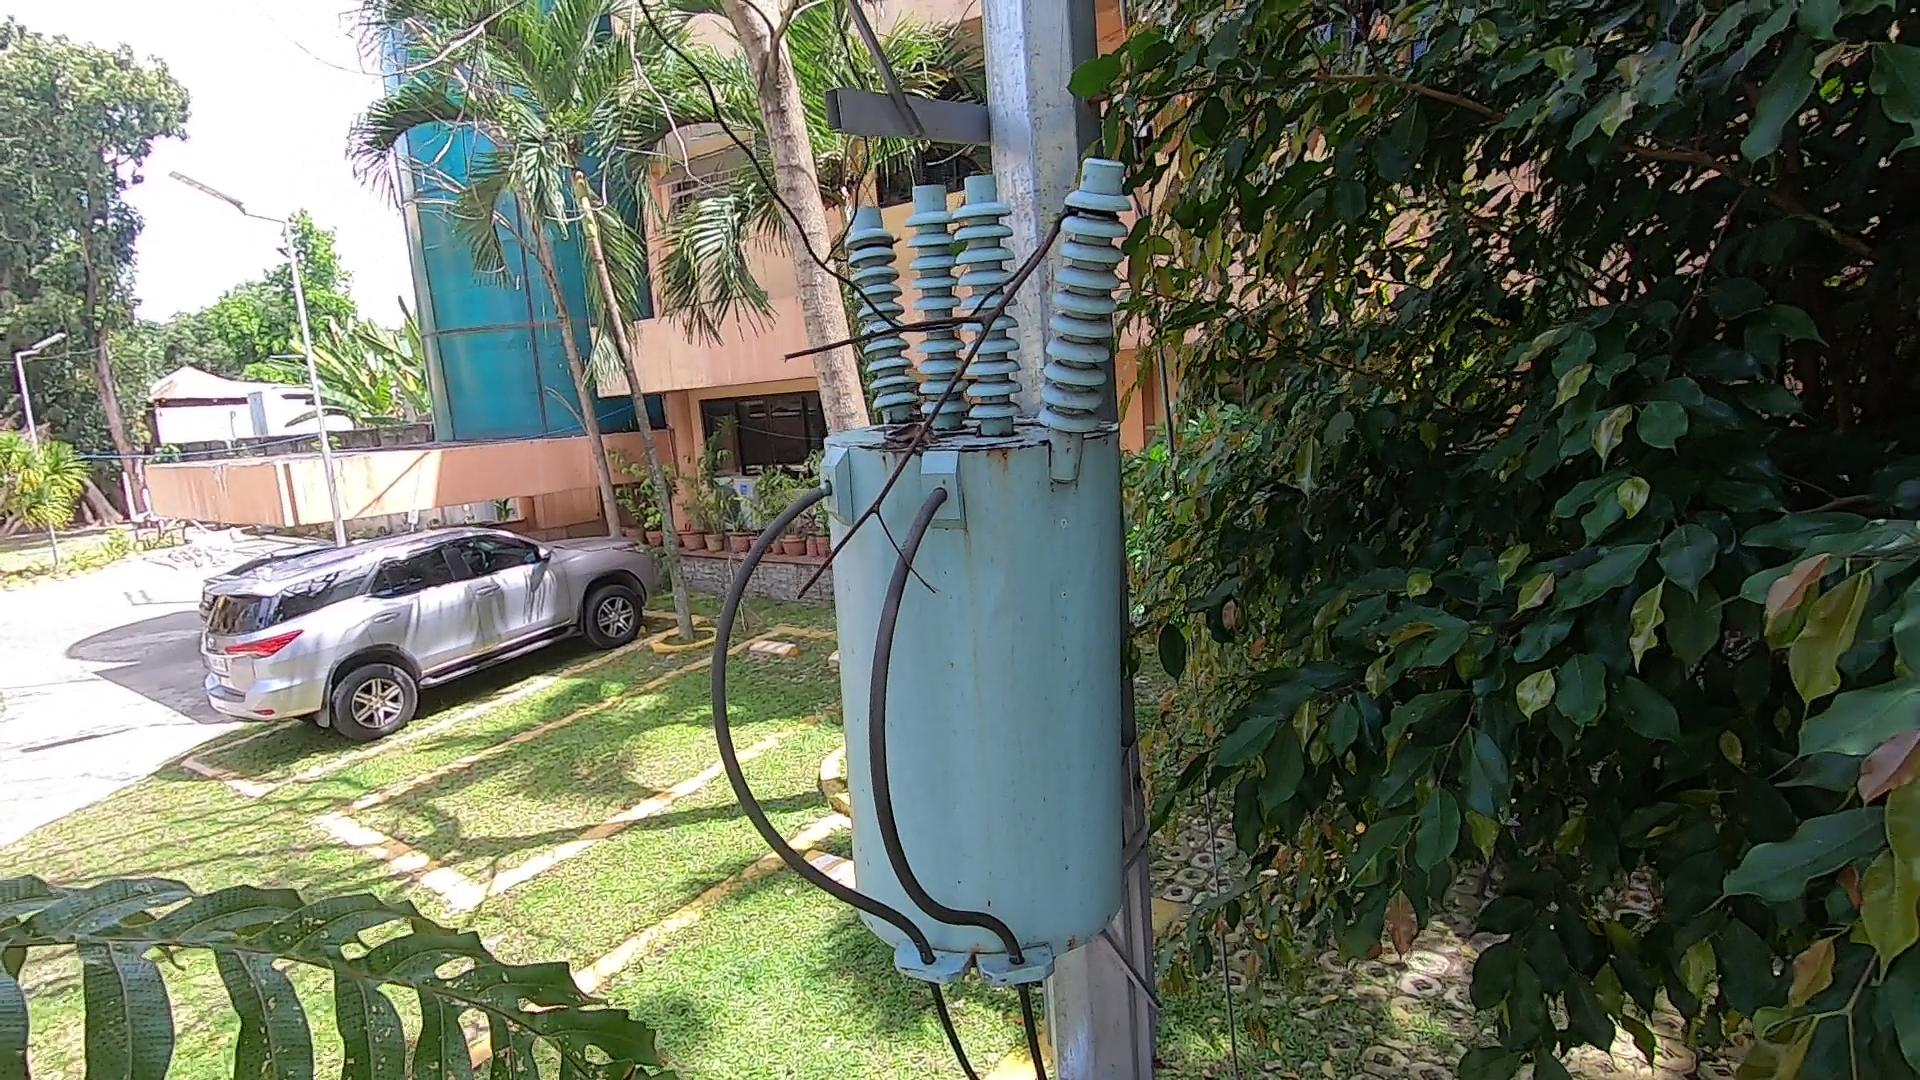leaf: (885, 409, 949, 462)
tree branch: (754, 200, 1127, 616)
